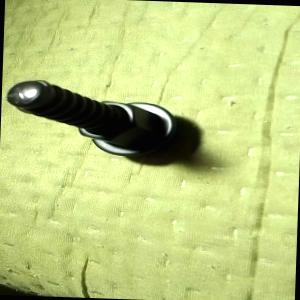parafuso: (4, 78, 182, 158)
